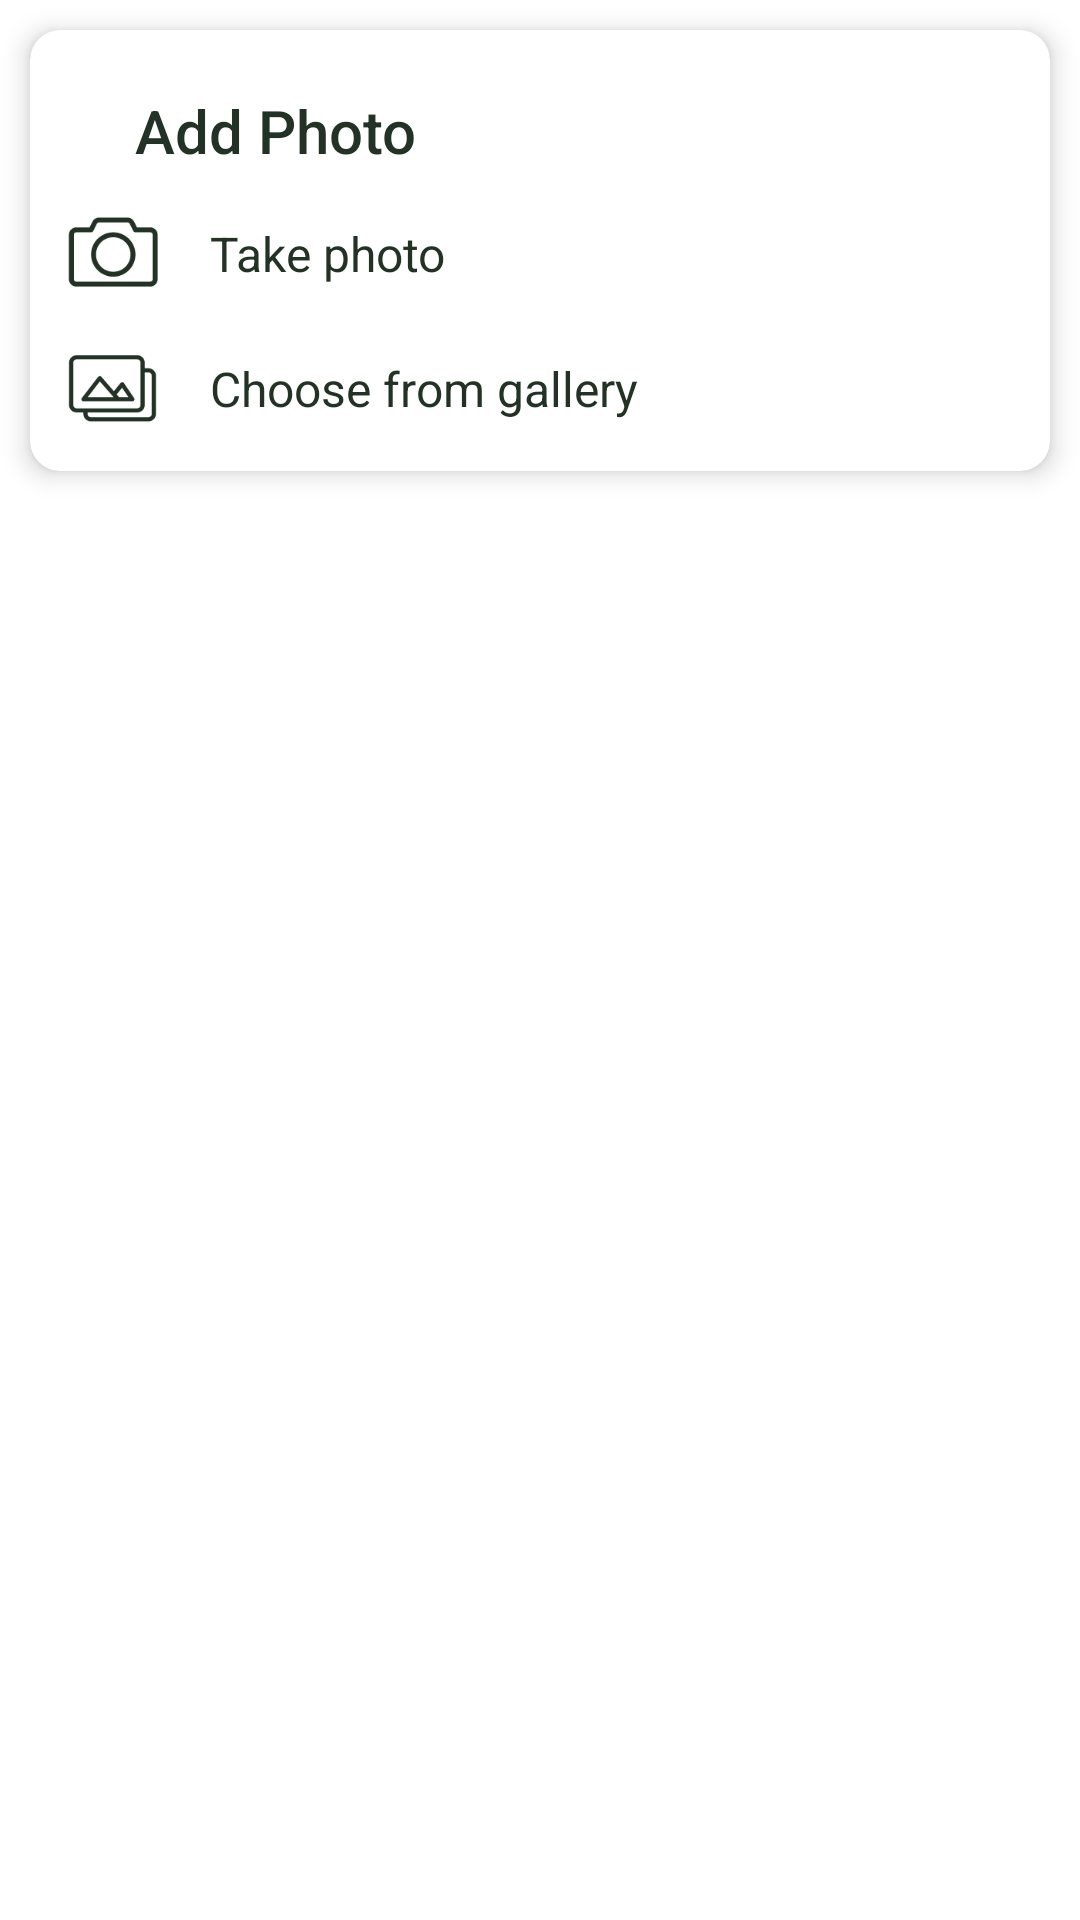

Screen size 1080*1920. Icon name, then its box in pixels as BBox(x1, y1, x2, y2):
camera: BBox(68, 217, 158, 287)
